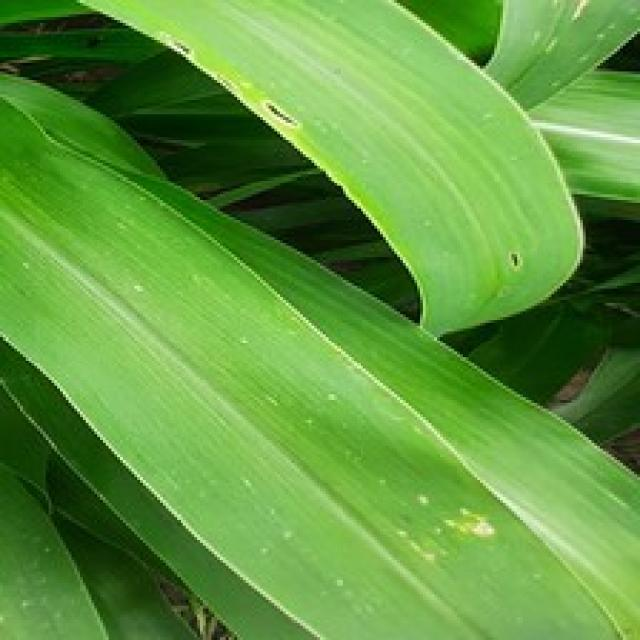Corn: (0, 0, 637, 637), (0, 0, 586, 337)
